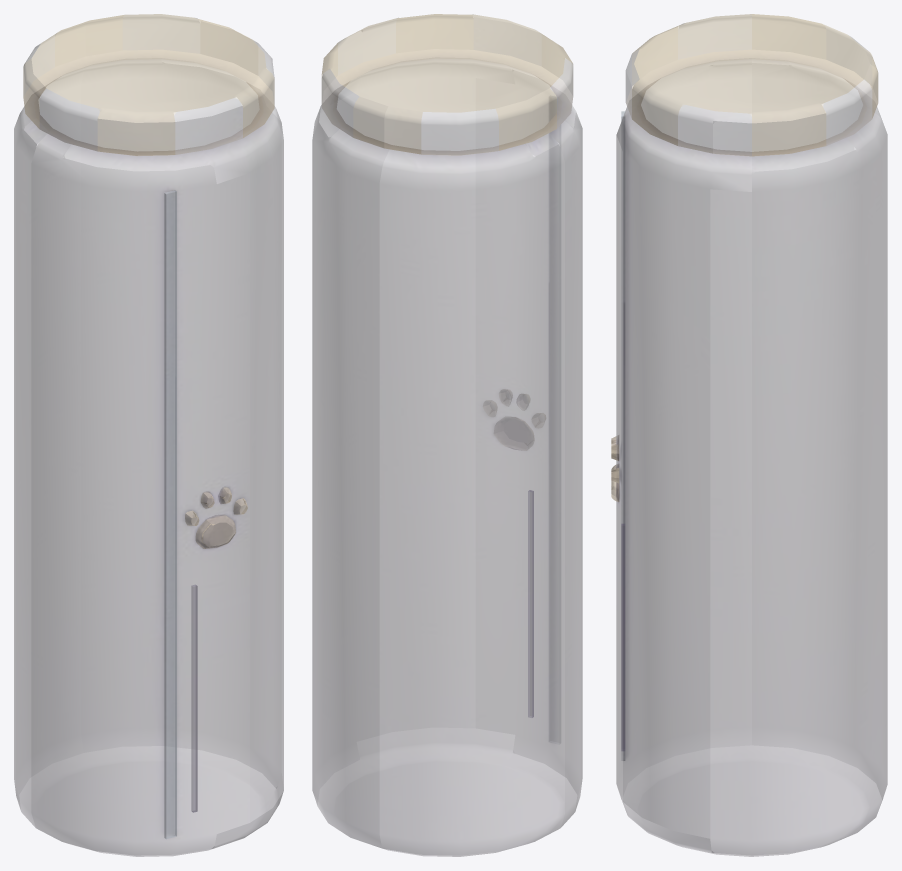
File: kavanoz3.glb
The picture shows the model from 3 angles, left to right: view 1: azimuth 30°, elevation 25°; view 2: azimuth 150°, elevation 25°; view 3: azimuth 270°, elevation 25°; orthographic projection.
Parts seen in each view (by area): view 1: kavanoz3; view 2: kavanoz3; view 3: kavanoz3.
Boxes of the visible parts, bbox=[...] form: kavanoz3: bbox=[14, 14, 283, 856]; kavanoz3: bbox=[312, 14, 582, 856]; kavanoz3: bbox=[611, 14, 887, 856].
Bounding box in the file's own units: 1.53 × 4.65 × 1.56.
1 material, 1 textured.
